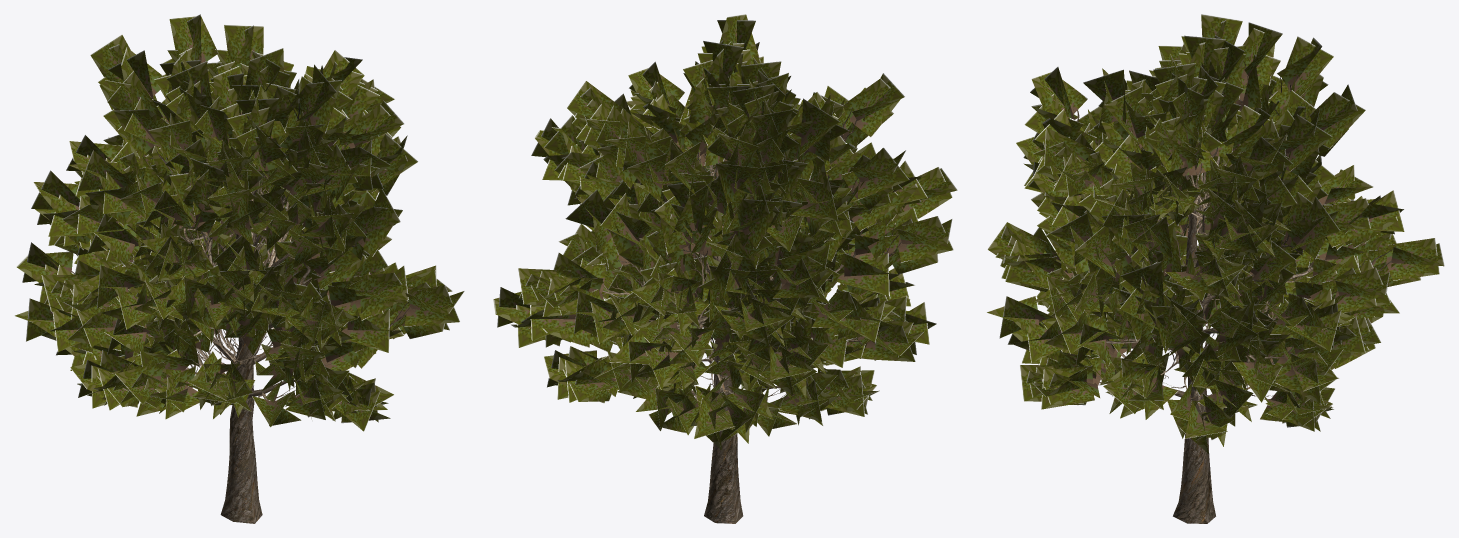
The model's file is tree_3.glb.
The picture shows the model from 3 angles, left to right: view 1: azimuth 30°, elevation 25°; view 2: azimuth 150°, elevation 25°; view 3: azimuth 270°, elevation 25°; orthographic projection.
Visible parts, largest first — view 1: prop; view 2: prop; view 3: prop.
Boxes of the visible parts, left/top/right/bottom form: prop: left=14, top=14, right=464, bottom=523; prop: left=493, top=14, right=957, bottom=523; prop: left=986, top=14, right=1444, bottom=523.
Size of the model in its own units: 7.78 by 8.5 by 7.62.
3 materials, 3 textured.
